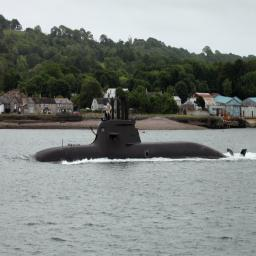submarine: (33, 91, 248, 162)
